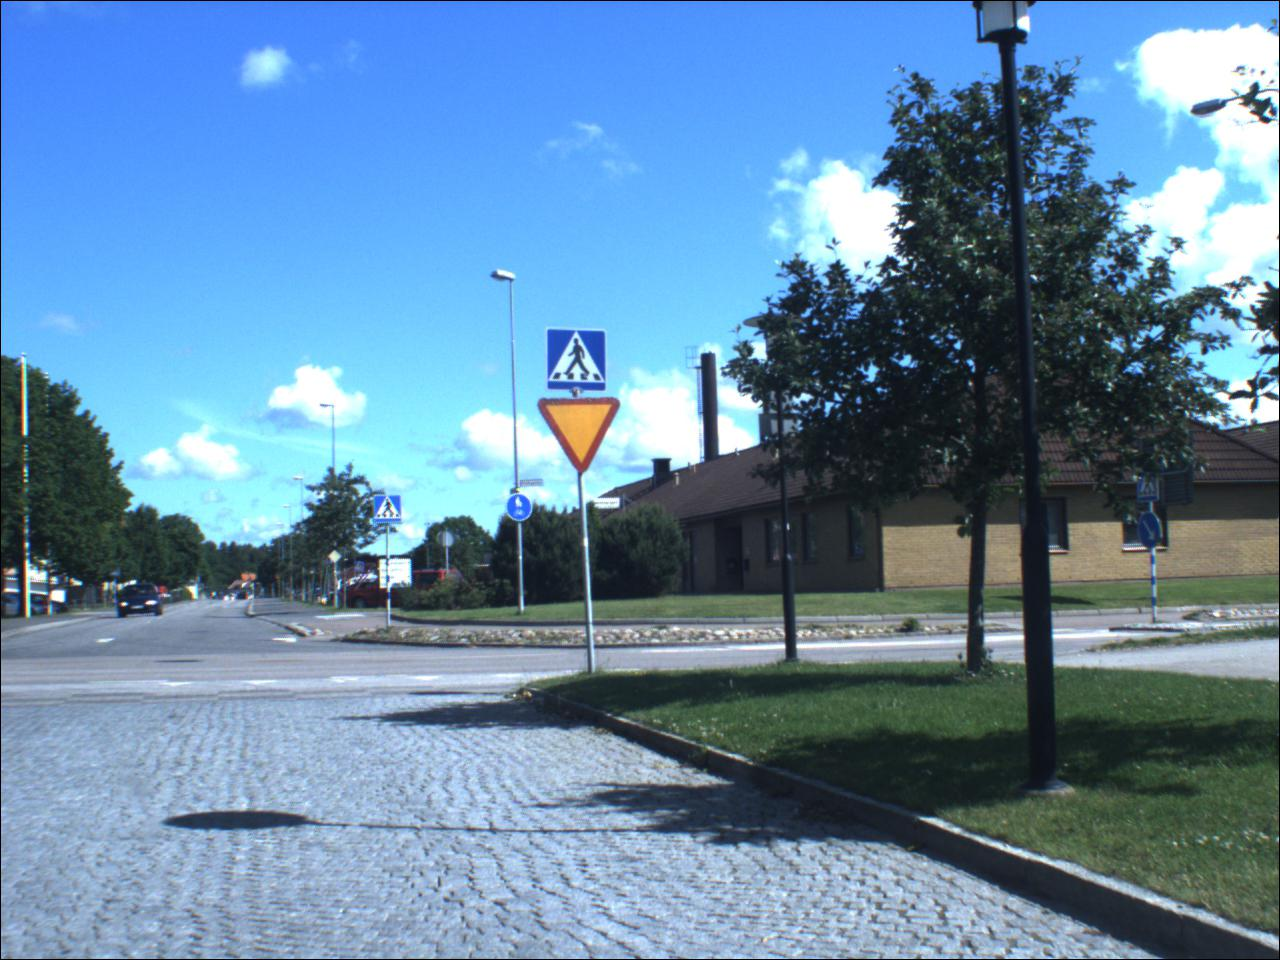GIVE_WAY: (537, 398, 622, 486)
PASS_RIGHT_SIDE: (1134, 510, 1162, 552)
PEDESTRIAN_CROSSING: (551, 332, 609, 393), (377, 497, 404, 526), (1139, 470, 1161, 504)
PRIORITY_ROAD: (329, 550, 345, 568)
